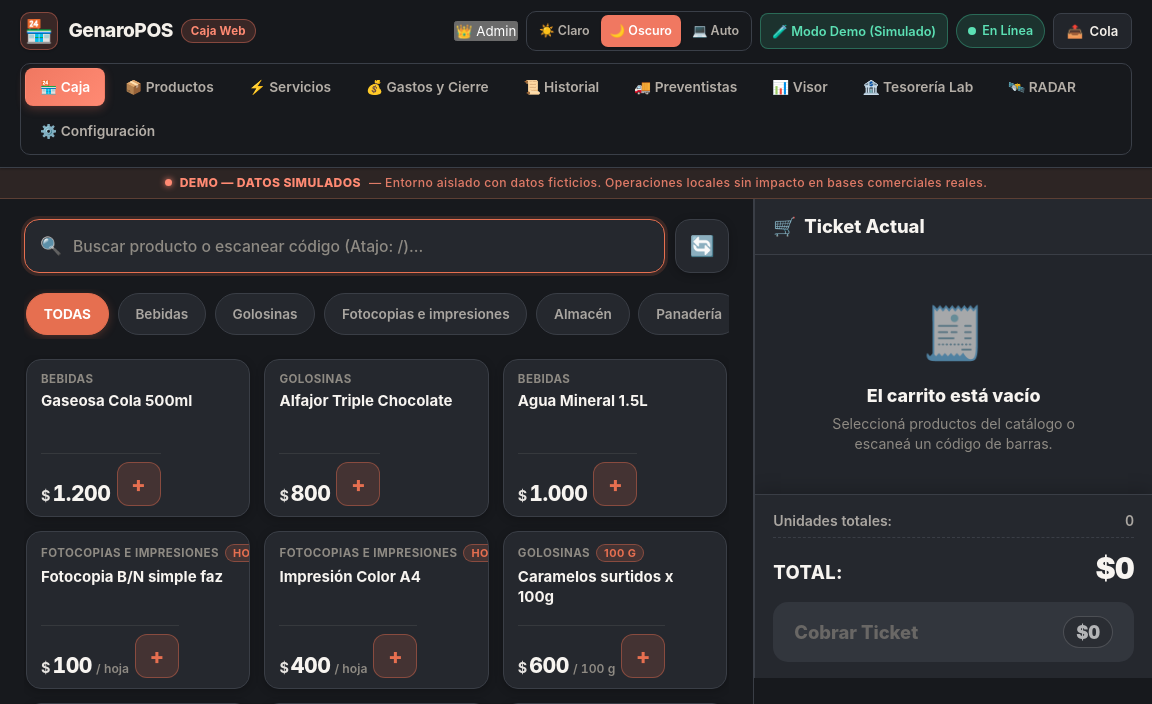
Test: Corrección Definitiva: Servicios (2 Desplegables Dependientes) y Caja (Buscador Limpio) › 2. Caja — Limpieza del Buscador › 2.2. Después de confirmar exitosamente una venta, el buscador permanece vacío y el carrito se vacía
// Agregar producto
Click the button with test id "prod-card-1": click(138, 438) [26,359,250,517]
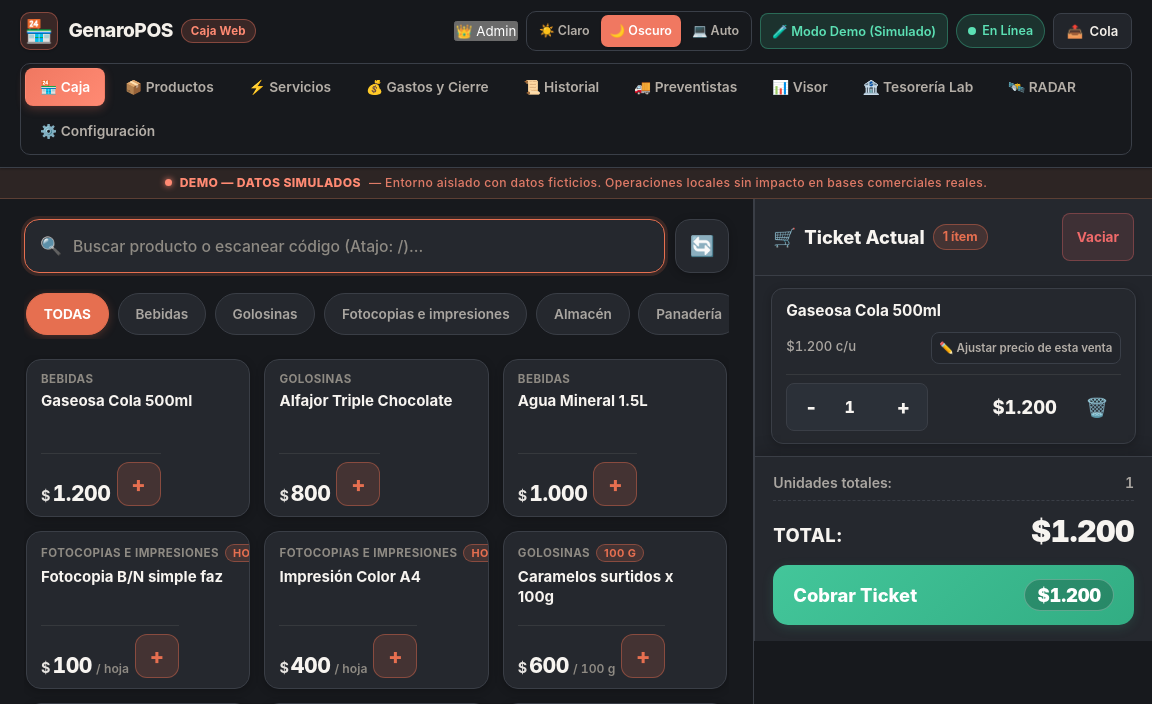
Result: the text with test id "cart-items-count" reads "1 ítem" at [933,224,988,250]
// Cobrar venta
Click the button with test id "btn-checkout": click(855, 595) [773,565,1134,625]
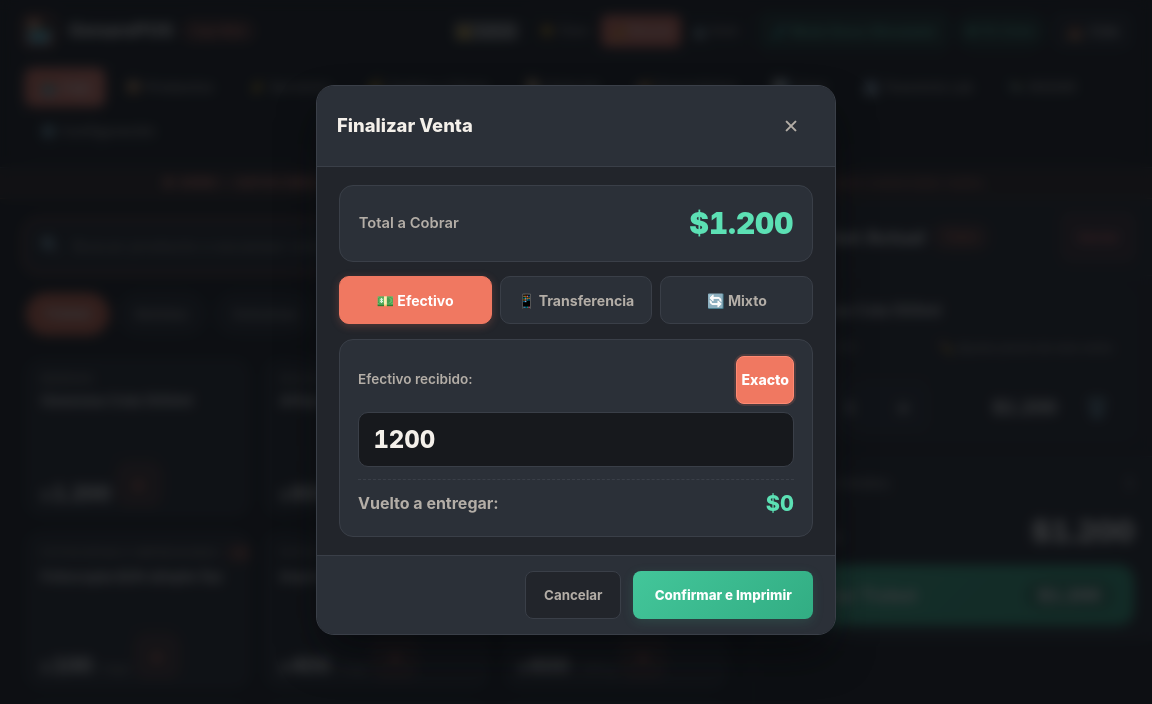
Click the button with test id "btn-confirm-payment": click(723, 595) [633,571,813,619]
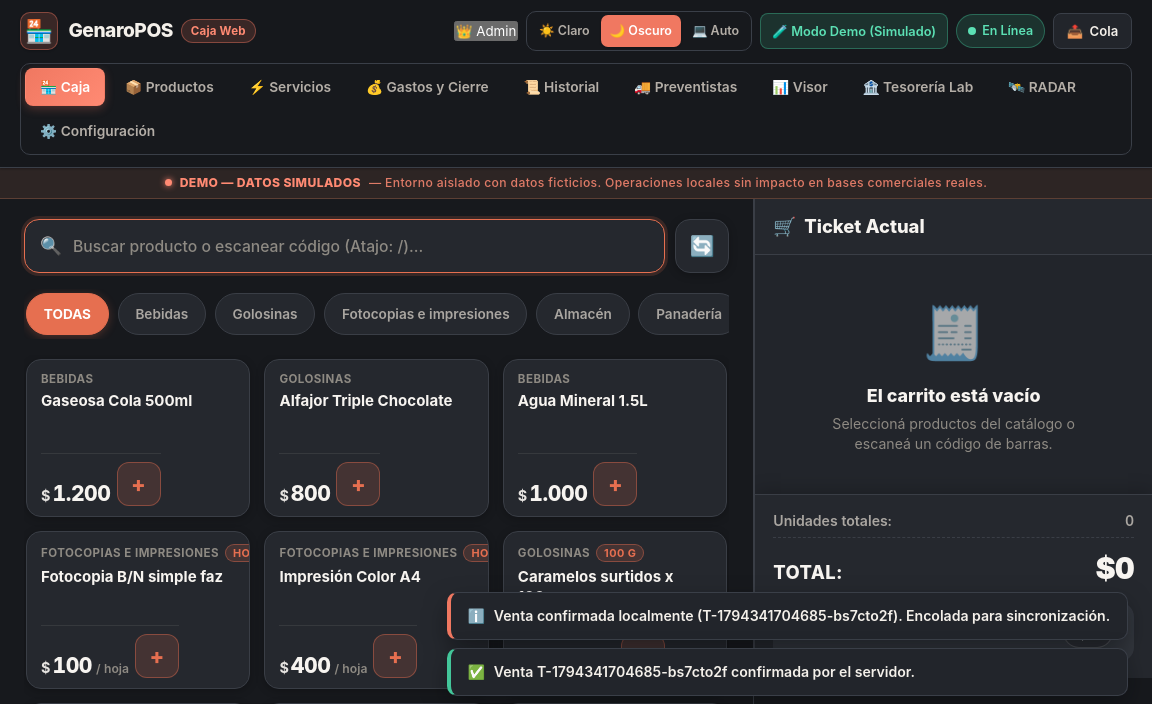
Expected: the field with test id "search-input" is empty, [24,219,665,273]
Result: the element with test id "cart-empty" is shown at [832,301,1075,452]
